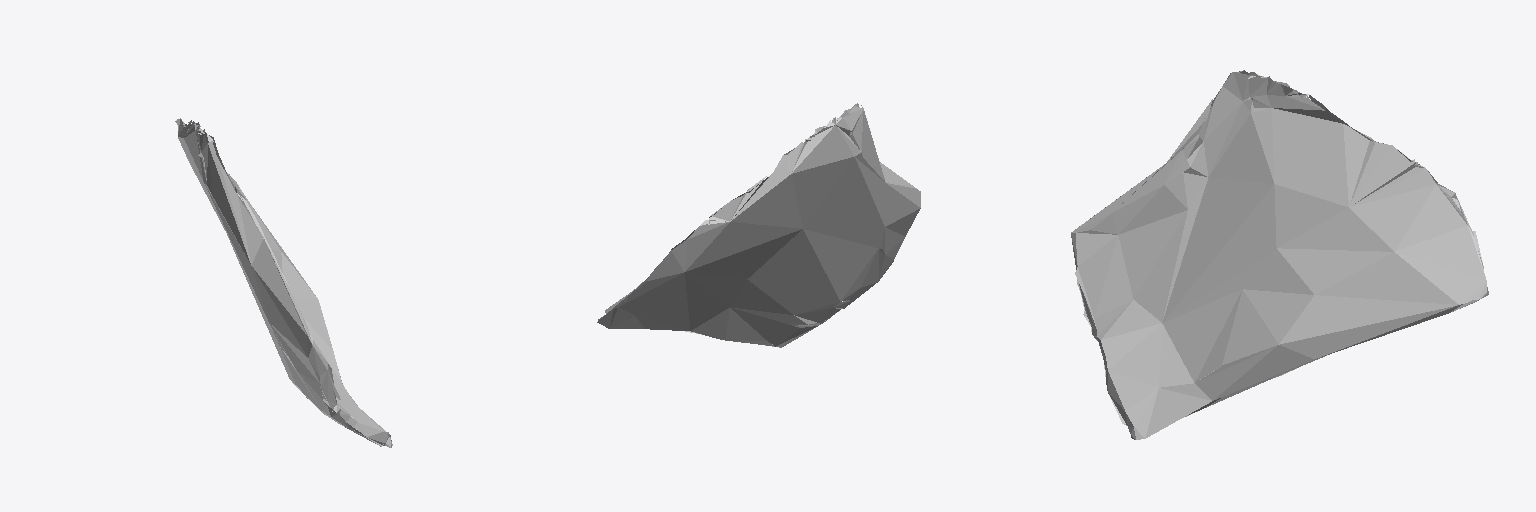
The model's file is FJ523_BP2540_FMA13352_Right_thyrohyoid.obj.
3 renders of one model, left to right at view 1: azimuth 30°, elevation 25°; view 2: azimuth 150°, elevation 25°; view 3: azimuth 270°, elevation 25°, orthographic.
Parts seen in each view (by area): view 1: FJ523_BP2540_FMA13352_Right_thyrohyoid; view 2: FJ523_BP2540_FMA13352_Right_thyrohyoid; view 3: FJ523_BP2540_FMA13352_Right_thyrohyoid.
Boxes of the visible parts, x1,y1,x2,y2 form: FJ523_BP2540_FMA13352_Right_thyrohyoid: [175, 118, 392, 447]; FJ523_BP2540_FMA13352_Right_thyrohyoid: [597, 103, 920, 347]; FJ523_BP2540_FMA13352_Right_thyrohyoid: [1071, 70, 1488, 439].
Size of the model in its own units: 11.89 by 24.12 by 29.92.